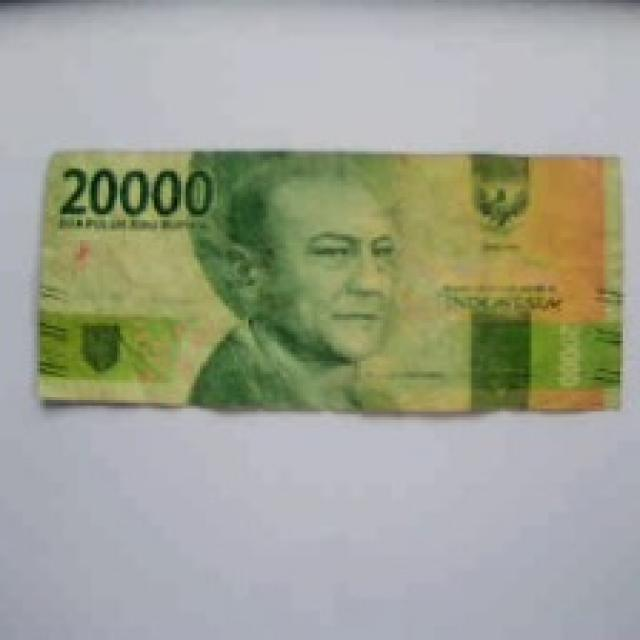dua puluh ribu rupiah: (7, 101, 640, 412)
